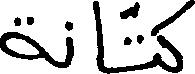X: (162, 0, 194, 73), (0, 12, 42, 64), (94, 0, 105, 73), (151, 18, 160, 72), (66, 16, 72, 72)
